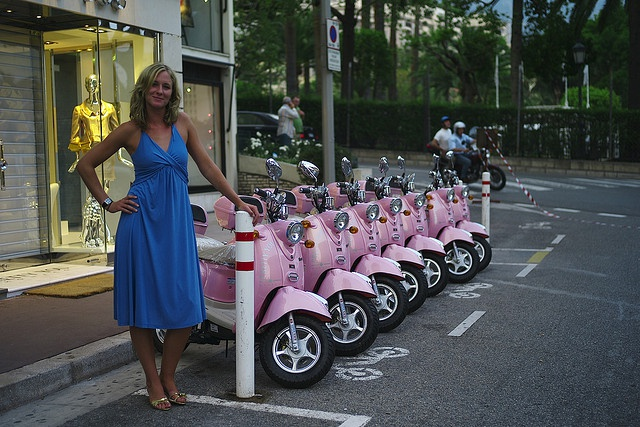non-vehicle: (152, 203, 336, 388), (211, 160, 378, 357), (327, 151, 405, 330), (361, 157, 429, 314), (398, 158, 476, 276), (395, 192, 449, 297), (464, 148, 506, 190), (452, 185, 487, 233)
